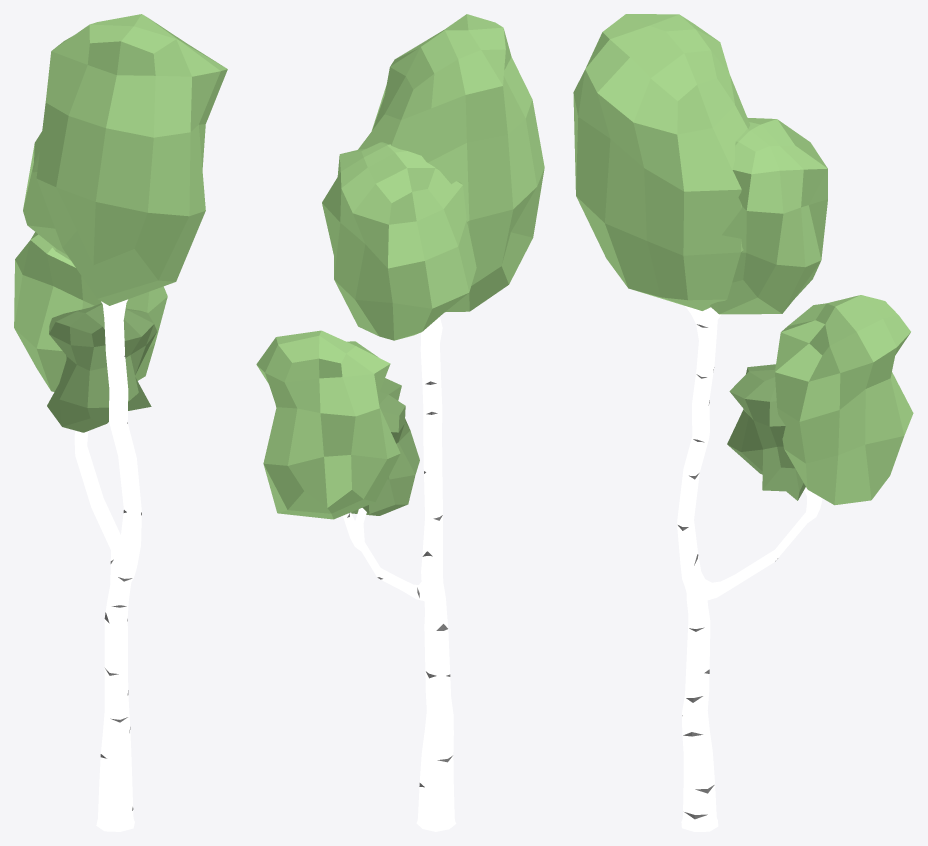
The model's file is BirchTree_5.gltf.
The picture shows the model from 3 angles, left to right: view 1: azimuth 30°, elevation 25°; view 2: azimuth 150°, elevation 25°; view 3: azimuth 270°, elevation 25°; orthographic projection. The views are drawn at different scales.
Parts seen in each view (by area): view 1: BirchTree_5; view 2: BirchTree_5; view 3: BirchTree_5.
Boxes of the visible parts, left/top/right/bottom form: BirchTree_5: left=14, top=14, right=227, bottom=831; BirchTree_5: left=256, top=14, right=544, bottom=831; BirchTree_5: left=573, top=14, right=913, bottom=831.
Bounding box in the file's own units: 119 × 501 × 193.
